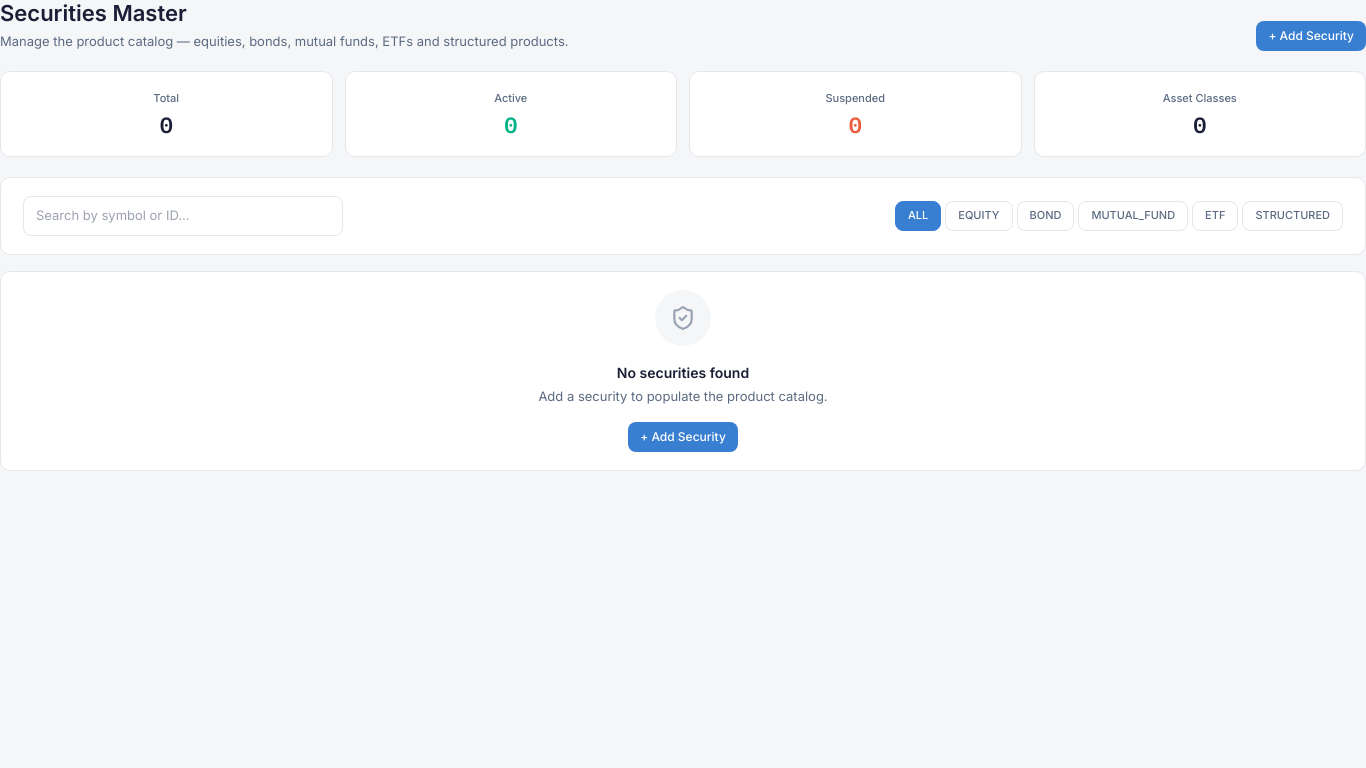
Test: AdminSecurities extra tests › opens Add Security modal when Add Security is clicked
The width and height of the screenshot is (1366, 768).
Click the button "+ Add Security" in the row of "Securities Master": [1311, 36] box [1256, 21, 1365, 51]
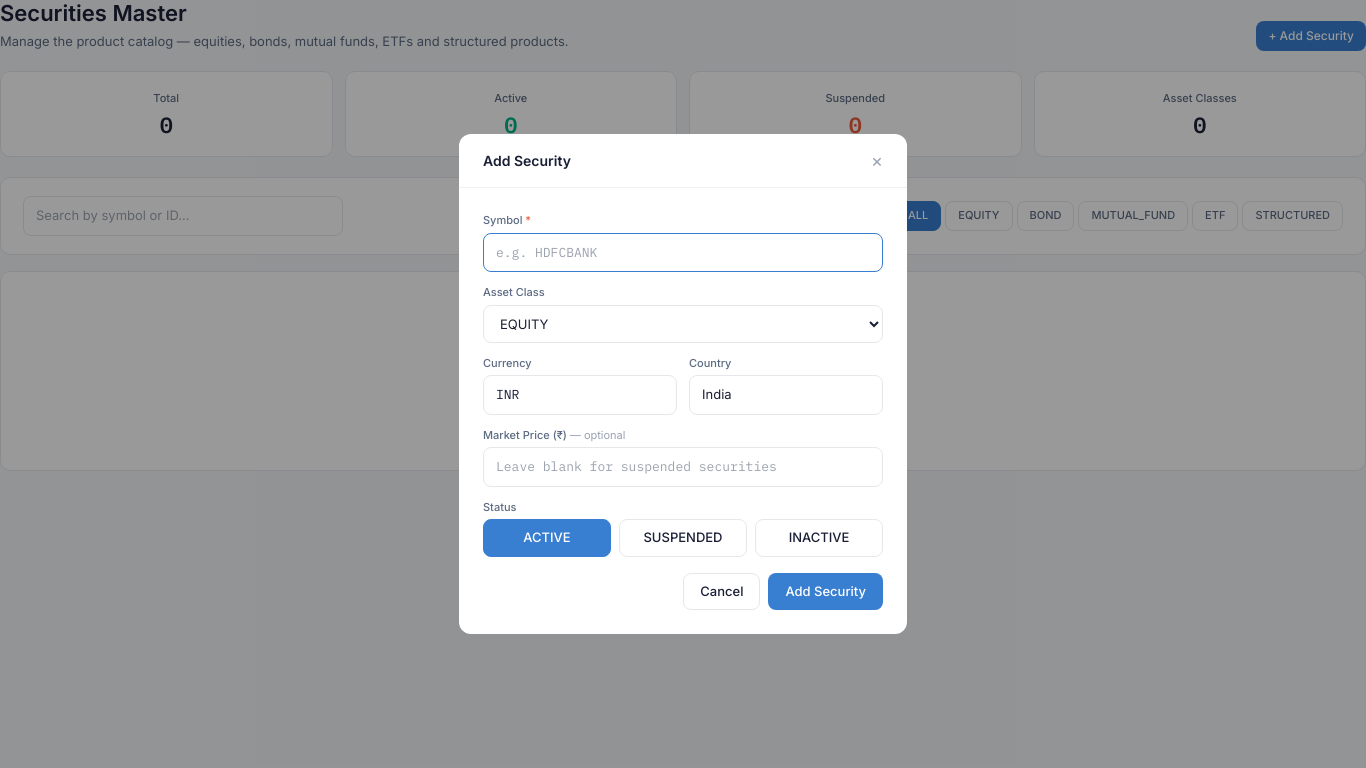
Now the field with placeholder "e.g. HDFCBANK" is shown, box [483, 232, 883, 272]
